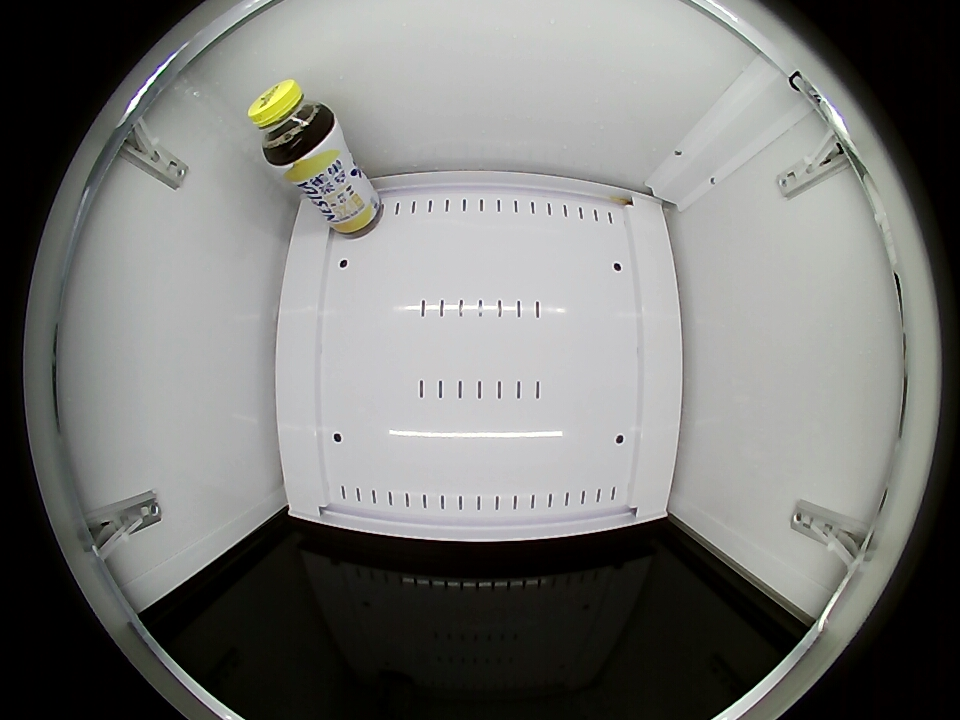chacui: (249, 79, 337, 170)
